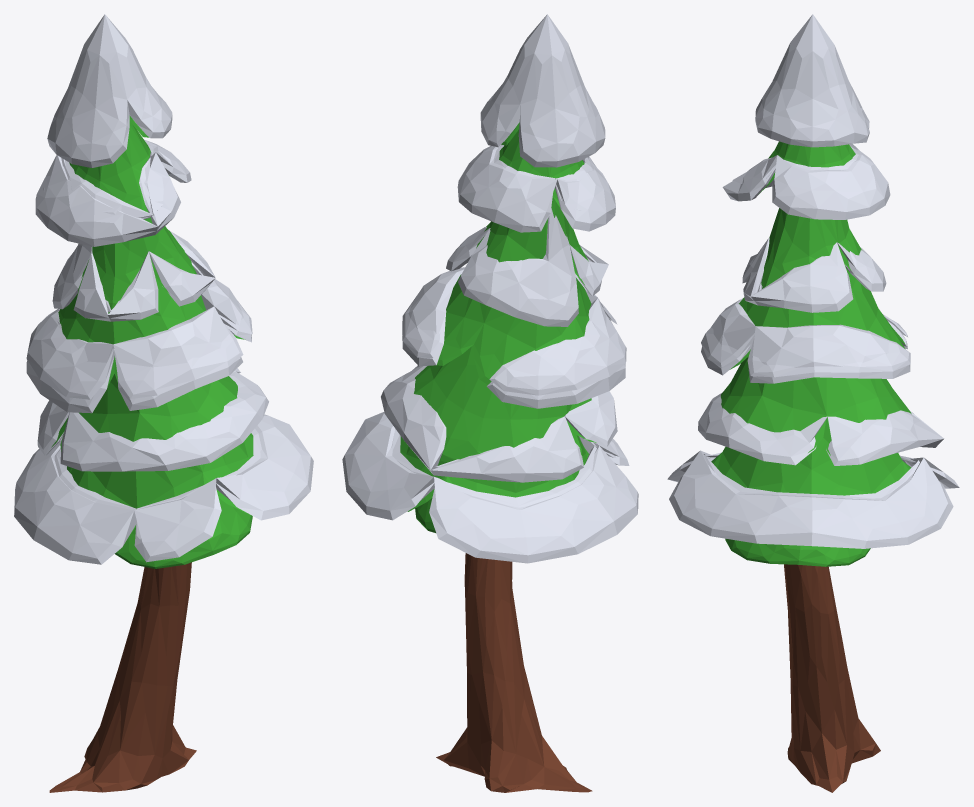
Rendered from Spurce.obj.
The picture shows the model from 3 angles, left to right: view 1: azimuth 30°, elevation 25°; view 2: azimuth 150°, elevation 25°; view 3: azimuth 270°, elevation 25°; orthographic projection. The views are drawn at different scales.
Visible parts, largest first — view 1: Circle, Cylinder; view 2: Circle, Cylinder; view 3: Circle, Cylinder.
Part boxes in pixels (left/top/right/bottom): Circle: left=14, top=14, right=313, bottom=568; Cylinder: left=49, top=562, right=196, bottom=792; Circle: left=342, top=14, right=638, bottom=563; Cylinder: left=436, top=553, right=592, bottom=792; Circle: left=667, top=14, right=959, bottom=566; Cylinder: left=784, top=564, right=880, bottom=792.
Size of the model in its own units: 2.55 by 7.19 by 2.6.
